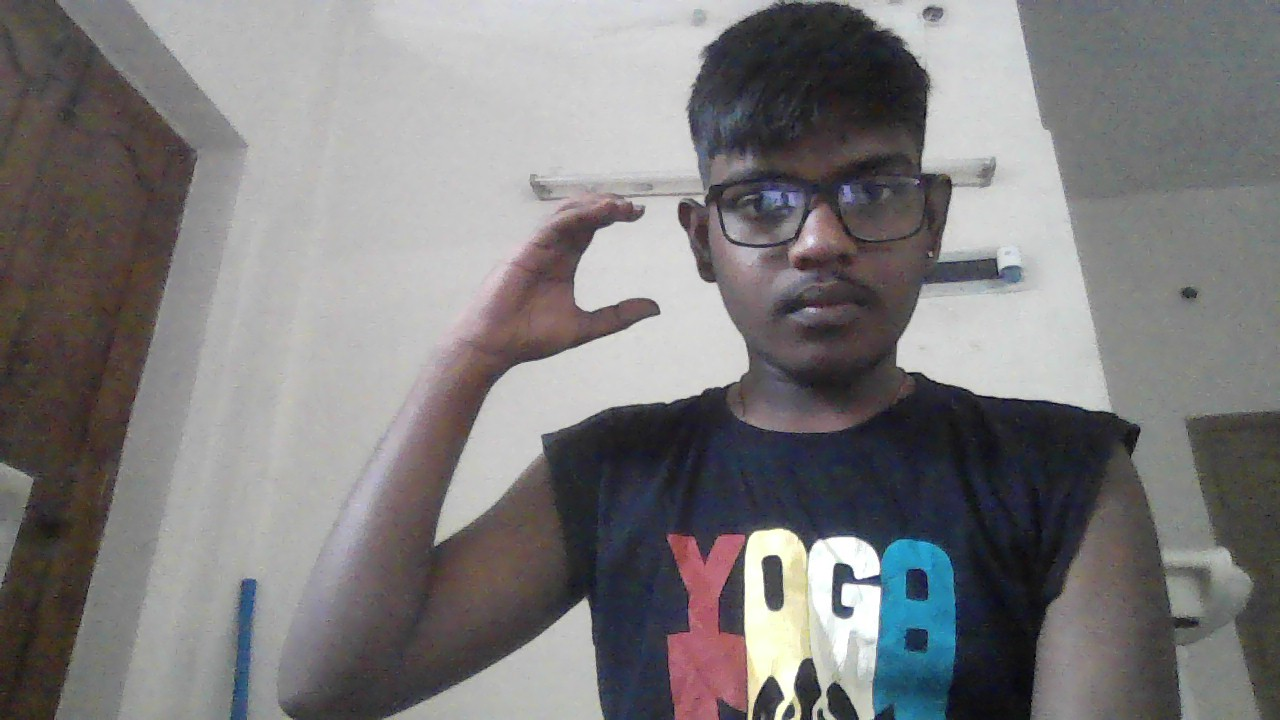C: (501, 193, 661, 359)
